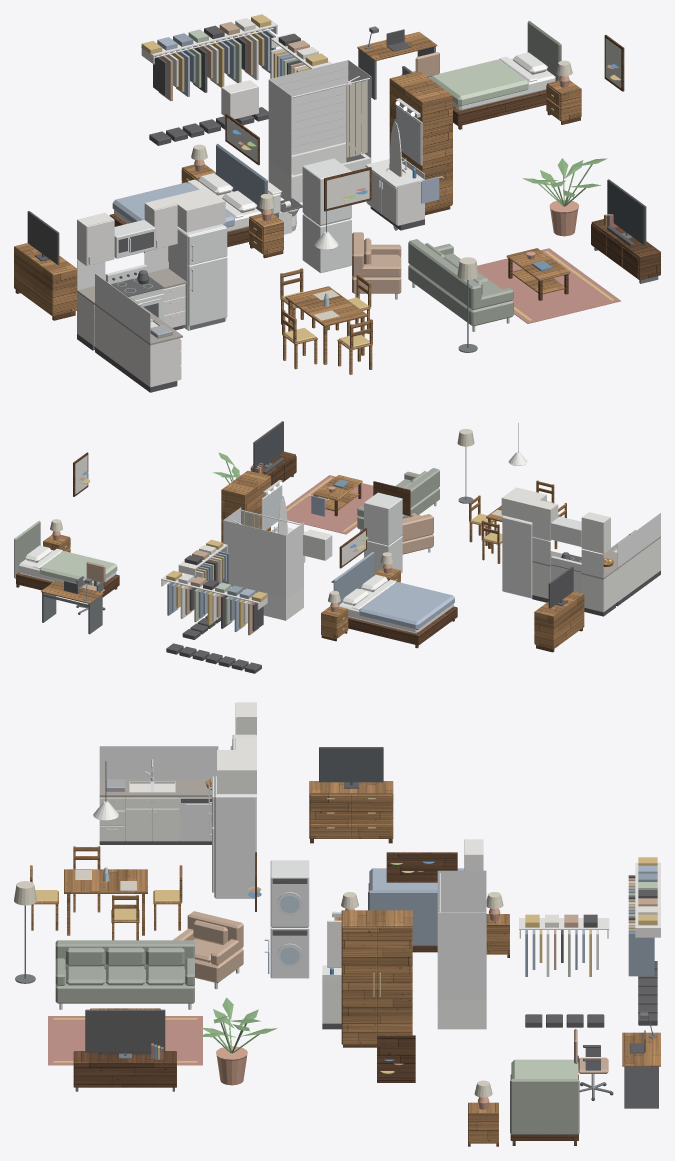
Rendered from apt_l.glb.
3 renders of one model, top to bottom at view 1: azimuth 30°, elevation 25°; view 2: azimuth 150°, elevation 25°; view 3: azimuth 270°, elevation 25°, orthographic. The views are drawn at different scales.
Parts seen in each view (by area): view 1: apt_l_wood, apt_l_cab, apt_l_appl, apt_l_tile_w, apt_l_dark, apt_l_fabric_g, apt_l_dkwood, apt_l_fabric_t, apt_l_porcelain, apt_l_rug, apt_l_paper, apt_l_bed_g (+14 smaller); view 2: apt_l_wood, apt_l_tile_w, apt_l_appl, apt_l_cab, apt_l_dark, apt_l_dkwood, apt_l_bed_b, apt_l_fabric_t, apt_l_bed_w, apt_l_fabric_g, apt_l_rug, apt_l_bed_g (+10 smaller); view 3: apt_l_wood, apt_l_fabric_g, apt_l_tile_w, apt_l_appl, apt_l_dkwood, apt_l_dark, apt_l_cab, apt_l_fabric_t, apt_l_fabric2, apt_l_rug, apt_l_trim, apt_l_steel_d (+12 smaller).
Part boxes in pixels (<box>): apt_l_wood: <box>14,32,581,374</box>; apt_l_cab: <box>77,169,424,387</box>; apt_l_appl: <box>105,158,351,330</box>; apt_l_tile_w: <box>77,60,371,343</box>; apt_l_dark: <box>27,25,646,392</box>; apt_l_fabric_g: <box>408,20,561,326</box>; apt_l_dkwood: <box>15,35,660,320</box>; apt_l_fabric_t: <box>158,22,439,293</box>; apt_l_porcelain: <box>268,122,424,234</box>; apt_l_rug: <box>238,64,620,323</box>; apt_l_paper: <box>165,18,621,208</box>; apt_l_bed_g: <box>187,29,528,106</box>; apt_l_wood: <box>41,470,613,649</box>; apt_l_tile_w: <box>223,507,660,599</box>; apt_l_appl: <box>364,492,581,598</box>; apt_l_cab: <box>304,487,660,612</box>; apt_l_dark: <box>64,421,660,673</box>; apt_l_dkwood: <box>16,451,582,652</box>; apt_l_bed_b: <box>172,495,454,631</box>; apt_l_fabric_t: <box>82,513,433,635</box>; apt_l_bed_w: <box>18,545,453,633</box>; apt_l_fabric_g: <box>14,468,439,578</box>; apt_l_rug: <box>79,475,607,561</box>; apt_l_bed_g: <box>39,551,234,624</box>; apt_l_wood: <box>30,778,660,1143</box>; apt_l_fabric_g: <box>55,940,579,1134</box>; apt_l_tile_w: <box>99,746,486,1000</box>; apt_l_appl: <box>180,734,309,978</box>; apt_l_dkwood: <box>73,839,578,1146</box>; apt_l_dark: <box>85,739,657,1100</box>; apt_l_cab: <box>99,702,341,1023</box>; apt_l_fabric_t: <box>173,878,657,1073</box>; apt_l_fabric2: <box>368,873,657,976</box>; apt_l_rug: <box>48,871,423,1065</box>; apt_l_trim: <box>327,839,660,967</box>; apt_l_steel_d: <box>15,905,658,1108</box>.
Bounding box in the file's own units: 11.68 × 3.05 × 10.03.
37 materials, 2 textured.
